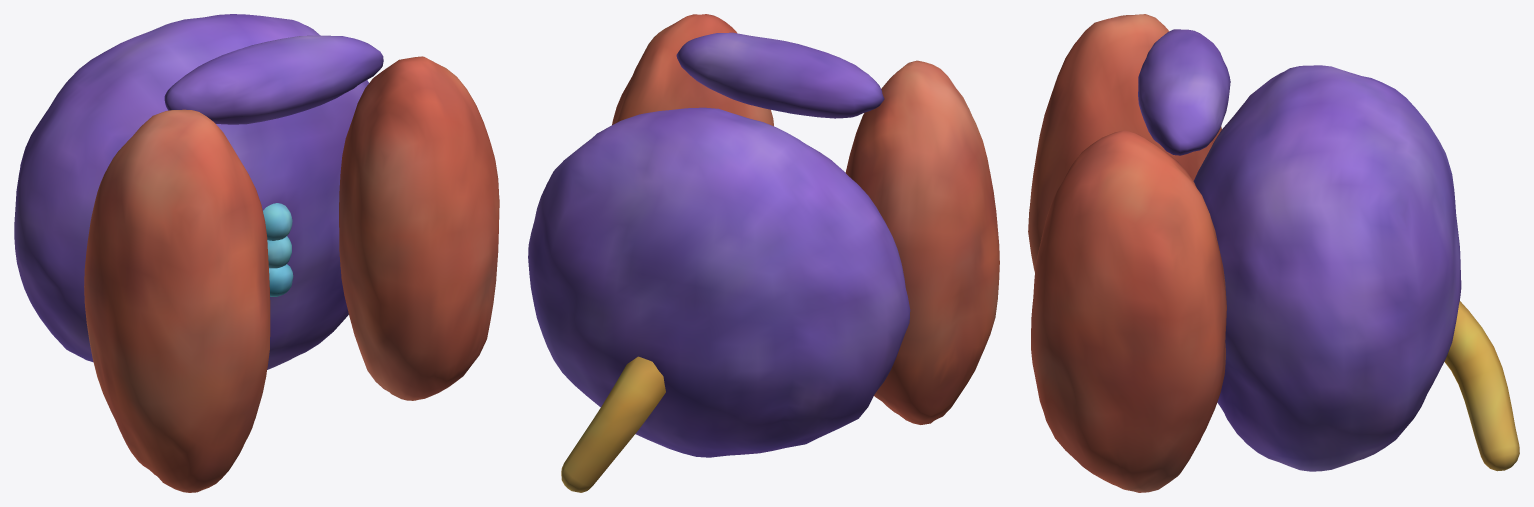
Rendered from rna-polymerase.glb.
The picture shows the model from 3 angles, left to right: view 1: azimuth 30°, elevation 25°; view 2: azimuth 150°, elevation 25°; view 3: azimuth 270°, elevation 25°; orthographic projection. The views are drawn at different scales.
Parts seen in each view (by area): view 1: rna-polymerase-jaws, rna-polymerase-core, rna-polymerase-bubble; view 2: rna-polymerase-core, rna-polymerase-jaws, rna-polymerase-rna-exit; view 3: rna-polymerase-core, rna-polymerase-jaws, rna-polymerase-rna-exit.
Part boxes in pixels (<box>): rna-polymerase-jaws: <box>84,56,499,492</box>; rna-polymerase-core: <box>14,14,383,369</box>; rna-polymerase-bubble: <box>263,203,293,296</box>; rna-polymerase-core: <box>528,32,910,457</box>; rna-polymerase-jaws: <box>612,14,999,424</box>; rna-polymerase-rna-exit: <box>561,356,665,492</box>; rna-polymerase-core: <box>1138,29,1461,471</box>; rna-polymerase-jaws: <box>1028,14,1226,492</box>; rna-polymerase-rna-exit: <box>1444,301,1519,471</box>.
Size of what is drawn, in the model's own units: 1.98 by 1.93 by 2.15.
